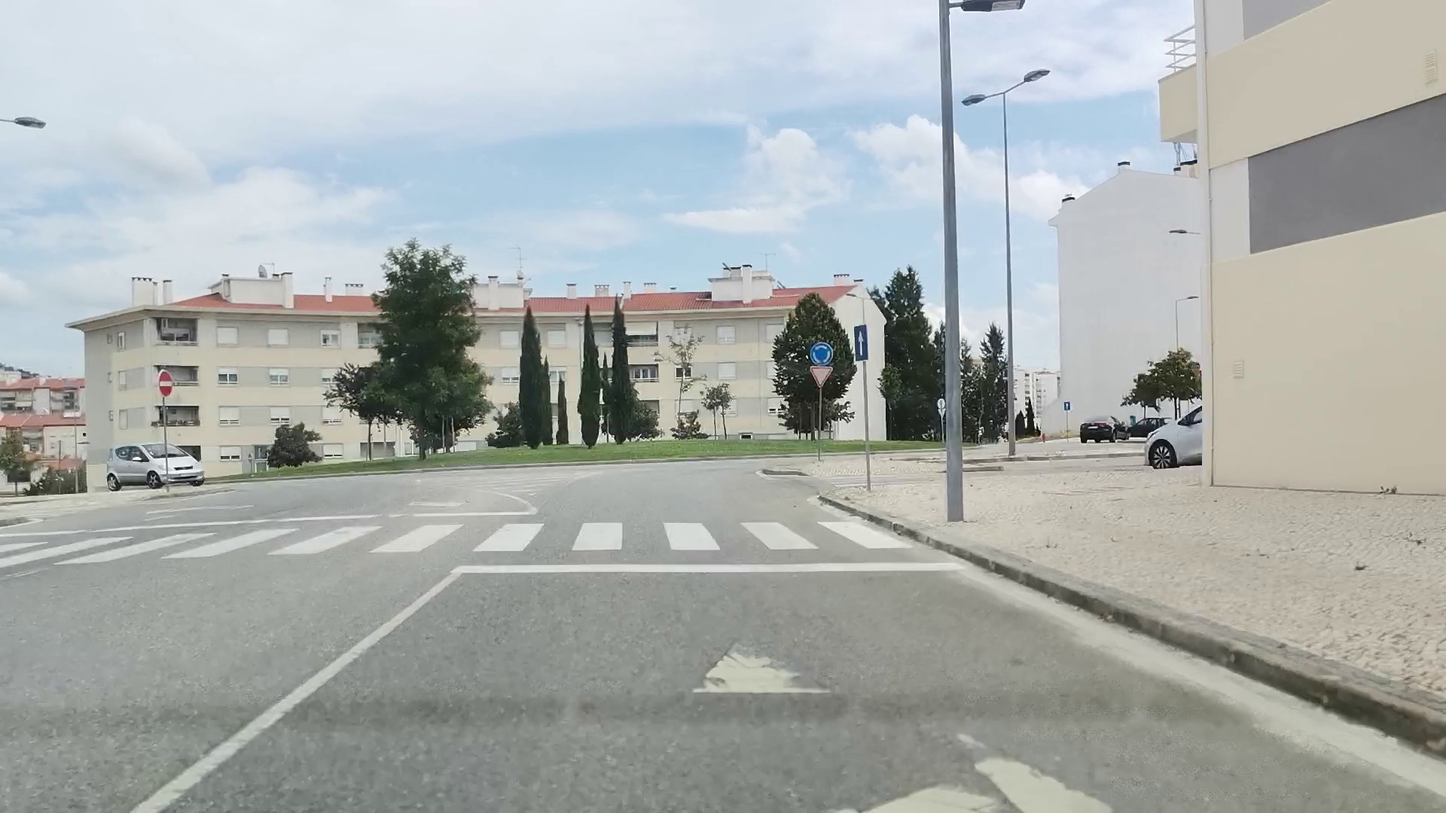Stairs: (0, 519, 914, 566)
